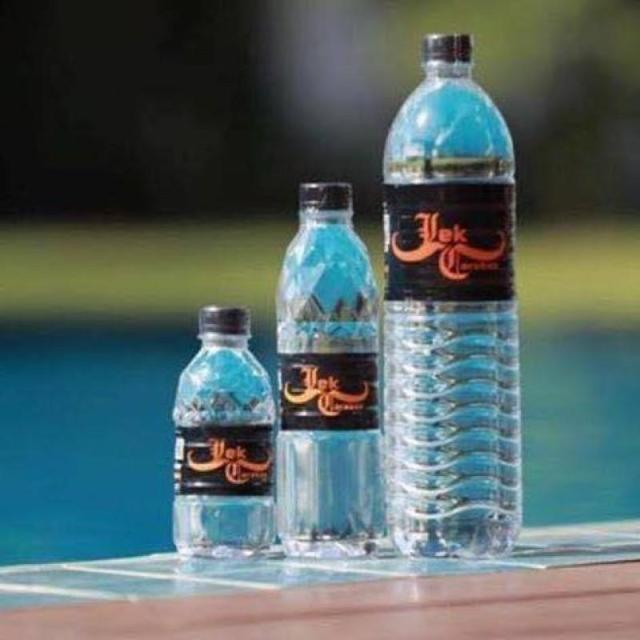bottle: (367, 22, 530, 570), (266, 170, 396, 567), (166, 296, 284, 580)
